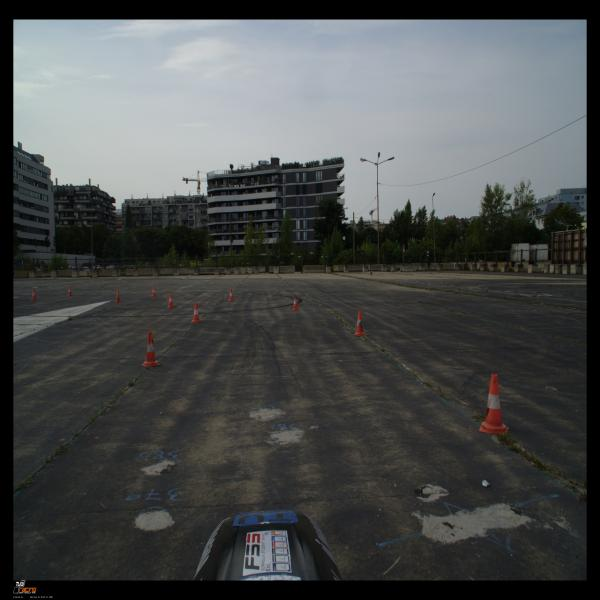orange_cone: (478, 374, 509, 435), (141, 331, 160, 367), (353, 311, 367, 336), (190, 302, 200, 323), (292, 294, 300, 311), (167, 293, 175, 308), (114, 290, 122, 302), (30, 289, 38, 300), (228, 288, 234, 301), (66, 286, 73, 296), (151, 286, 157, 297)
